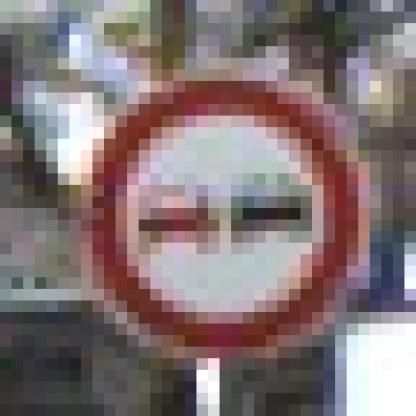No Overtaking: (71, 59, 360, 359)
